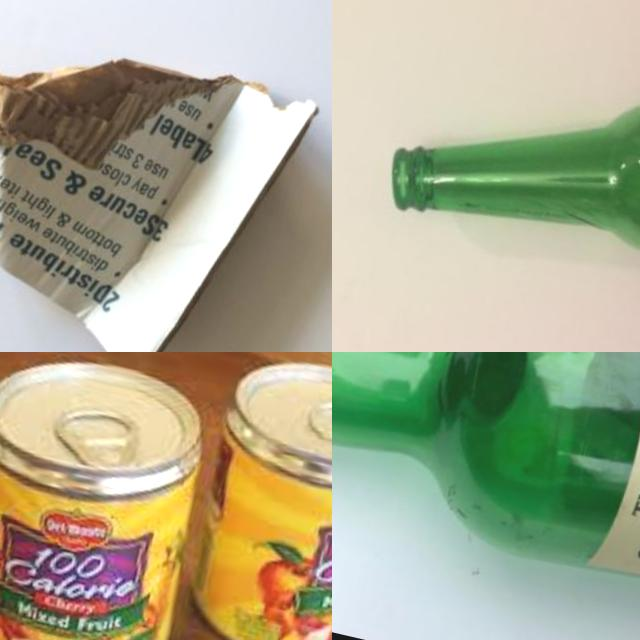aba de lata: (45, 396, 146, 474), (306, 386, 332, 459)
garrafa de vidro: (332, 352, 640, 605), (382, 24, 640, 280)
lata: (0, 352, 228, 640), (174, 352, 332, 640)
papelão: (0, 0, 326, 352)
